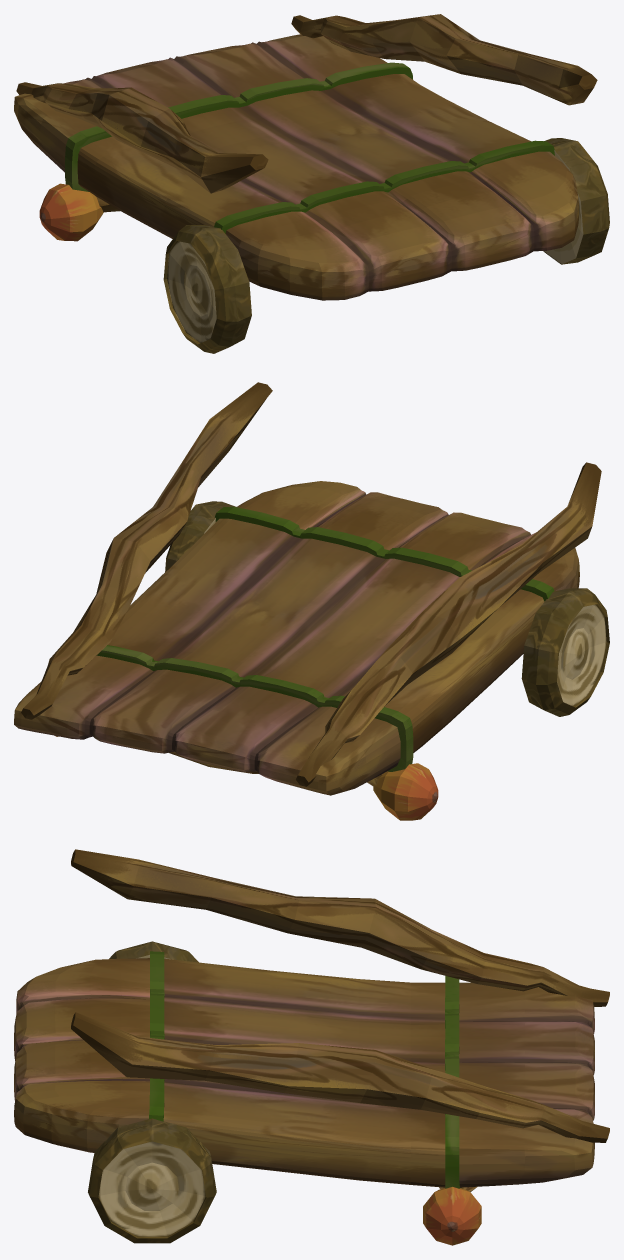
Rendered from cartCOMBINED.fbx.
3 renders of one model, top to bottom at view 1: azimuth 30°, elevation 25°; view 2: azimuth 150°, elevation 25°; view 3: azimuth 270°, elevation 25°, orthographic.
Visible parts, largest first — view 1: pCylinder12; view 2: pCylinder12; view 3: pCylinder12.
Boxes of the visible parts, <box> form: pCylinder12: <box>14,14,609,353</box>; pCylinder12: <box>14,382,609,820</box>; pCylinder12: <box>14,849,609,1245</box>.
Size of the model in its own units: 12.85 by 6.74 by 16.35.
Materials: 1 (1 with a texture image).
